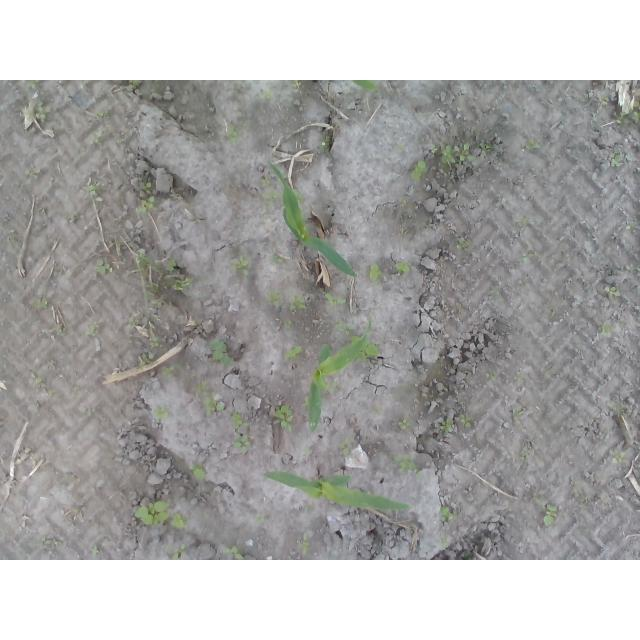Maize: (266, 159, 358, 277), (308, 320, 372, 432), (263, 468, 414, 512), (349, 80, 380, 92)
Weeds: (135, 248, 194, 301), (135, 497, 188, 528), (227, 409, 255, 455), (30, 368, 64, 400), (196, 379, 225, 413), (266, 288, 306, 312), (135, 180, 158, 216), (392, 454, 423, 480), (208, 335, 234, 366), (613, 100, 640, 128), (139, 336, 162, 367), (441, 143, 476, 163), (608, 144, 636, 169), (275, 403, 297, 433), (260, 178, 280, 209), (335, 319, 358, 342), (32, 535, 64, 550), (23, 105, 51, 122), (335, 431, 353, 457), (410, 159, 431, 181), (544, 503, 561, 527), (230, 253, 250, 273), (609, 447, 631, 465), (165, 544, 188, 561), (153, 406, 172, 425), (297, 530, 312, 553), (607, 398, 626, 416), (325, 291, 347, 306), (191, 462, 209, 480), (224, 545, 245, 560), (369, 262, 383, 284), (597, 320, 615, 337), (439, 506, 455, 525), (397, 417, 417, 432), (284, 345, 304, 360), (82, 183, 102, 198), (32, 296, 49, 313), (96, 256, 113, 273), (527, 136, 545, 152), (512, 404, 525, 425), (440, 418, 456, 434), (226, 127, 240, 145), (393, 260, 412, 273), (605, 285, 624, 297), (162, 365, 177, 380), (460, 413, 475, 428), (256, 90, 273, 103), (24, 166, 42, 178), (324, 381, 345, 391), (476, 143, 497, 153), (513, 371, 528, 385), (87, 318, 97, 338), (455, 239, 473, 250), (90, 544, 102, 560), (63, 211, 81, 221), (55, 321, 66, 337), (320, 135, 330, 152), (624, 263, 640, 273), (26, 80, 42, 89), (519, 251, 529, 265), (96, 111, 113, 119), (94, 128, 102, 145), (128, 80, 143, 89), (485, 370, 497, 381), (488, 286, 496, 302), (303, 504, 317, 513), (127, 319, 139, 329), (520, 448, 529, 461), (255, 514, 266, 524), (440, 535, 451, 545), (270, 256, 282, 265), (462, 552, 474, 561), (580, 494, 592, 503), (303, 447, 313, 457), (292, 80, 302, 90), (599, 95, 609, 105), (284, 320, 295, 329), (519, 216, 530, 225), (626, 224, 637, 233), (430, 143, 439, 153), (309, 370, 318, 378), (398, 144, 406, 153), (398, 105, 406, 114)
